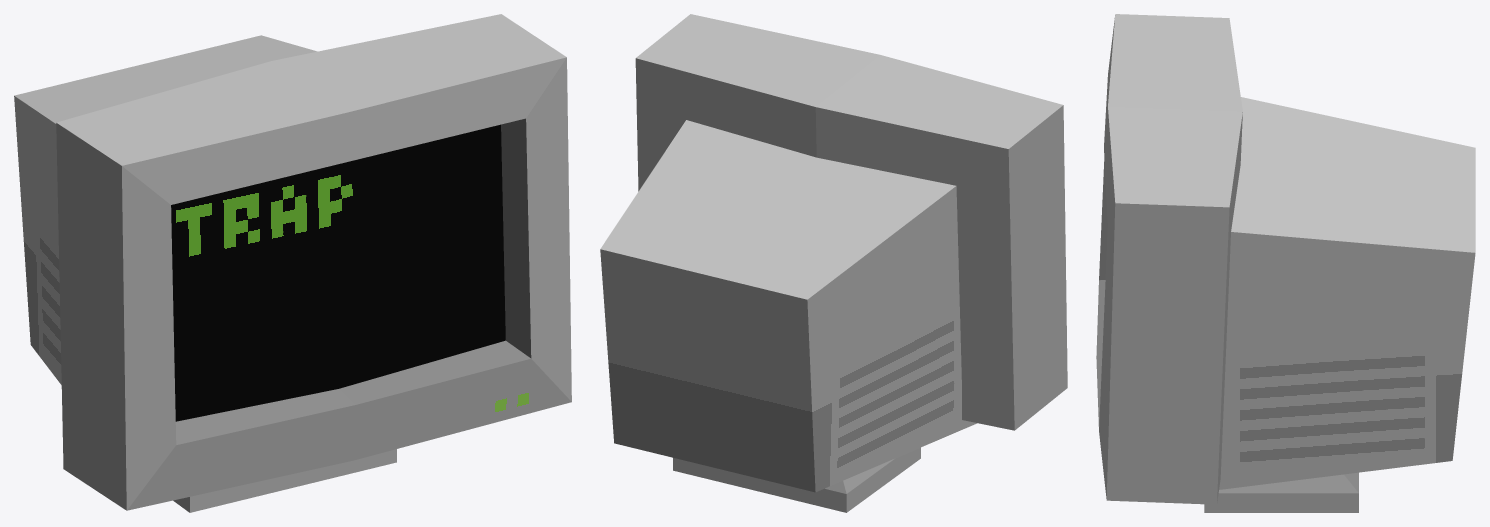
The model's file is monitor.894de1ca.glb.
The picture shows the model from 3 angles, left to right: view 1: azimuth 30°, elevation 25°; view 2: azimuth 150°, elevation 25°; view 3: azimuth 270°, elevation 25°; orthographic projection. The views are drawn at different scales.
Parts seen in each view (by area): view 1: Cube; view 2: Cube; view 3: Cube.
Part boxes in pixels (bbox=[...]): Cube: bbox=[14, 14, 571, 512]; Cube: bbox=[600, 14, 1067, 512]; Cube: bbox=[1096, 14, 1475, 512].
Size of the model in its own units: 2.81 by 2.51 by 2.38.
Materials: 1 (1 with a texture image).
